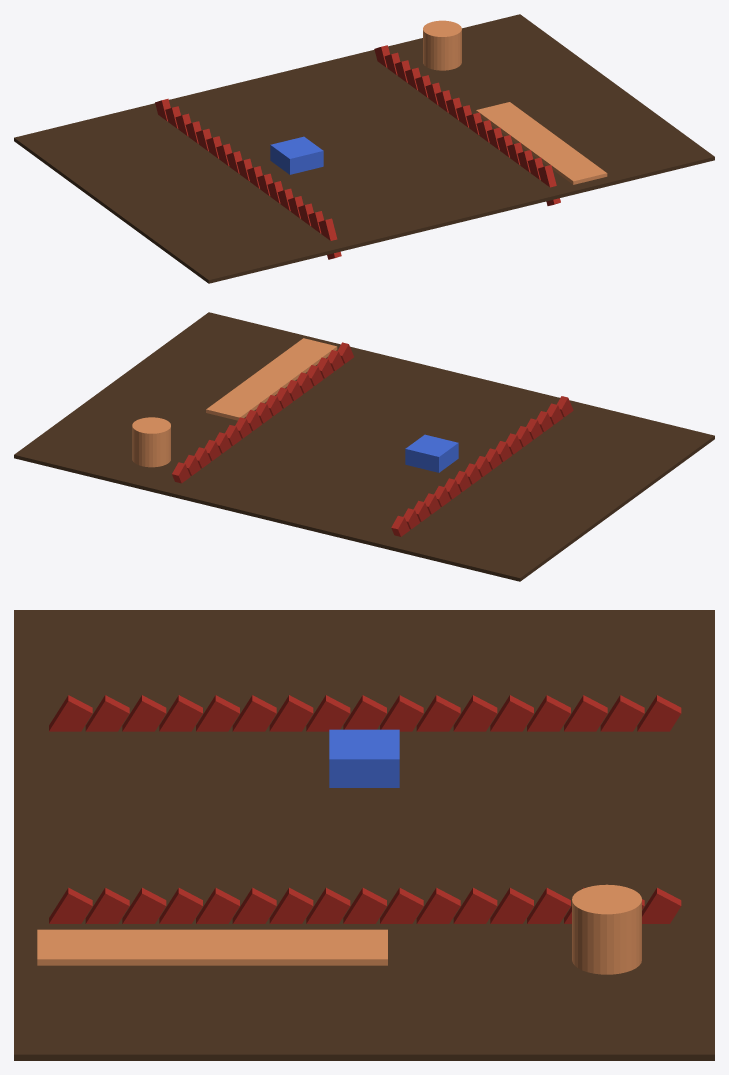
3 views of the same model, one above another, from view 1: azimuth 30°, elevation 25°; view 2: azimuth 150°, elevation 25°; view 3: azimuth 270°, elevation 25° (orthographic). The views are drawn at different scales.
Visible parts, largest first — view 1: Cube, Cube.001, Cube.002, Cube.003, Cylinder, Cube.004; view 2: Cube, Cube.001, Cube.002, Cube.003, Cylinder, Cube.004; view 3: Cube, Cube.002, Cube.001, Cube.003, Cylinder, Cube.004.
Boxes of the visible parts, x1,y1,x2,y2 form: Cube: [14, 14, 714, 283]; Cube.001: [374, 45, 560, 205]; Cube.002: [155, 98, 341, 259]; Cube.003: [476, 102, 607, 184]; Cylinder: [423, 20, 461, 70]; Cube.004: [270, 136, 323, 174]; Cube: [14, 312, 714, 581]; Cube.001: [172, 342, 353, 483]; Cube.002: [391, 396, 573, 536]; Cube.003: [206, 338, 337, 420]; Cylinder: [132, 417, 170, 467]; Cube.004: [405, 434, 458, 472]; Cube: [14, 610, 714, 1060]; Cube.002: [49, 695, 681, 731]; Cube.001: [49, 887, 681, 923]; Cube.003: [37, 929, 387, 965]; Cylinder: [572, 884, 641, 974]; Cube.004: [329, 729, 399, 787].
Bounding box in the file's own units: 30 × 3.07 × 20.
